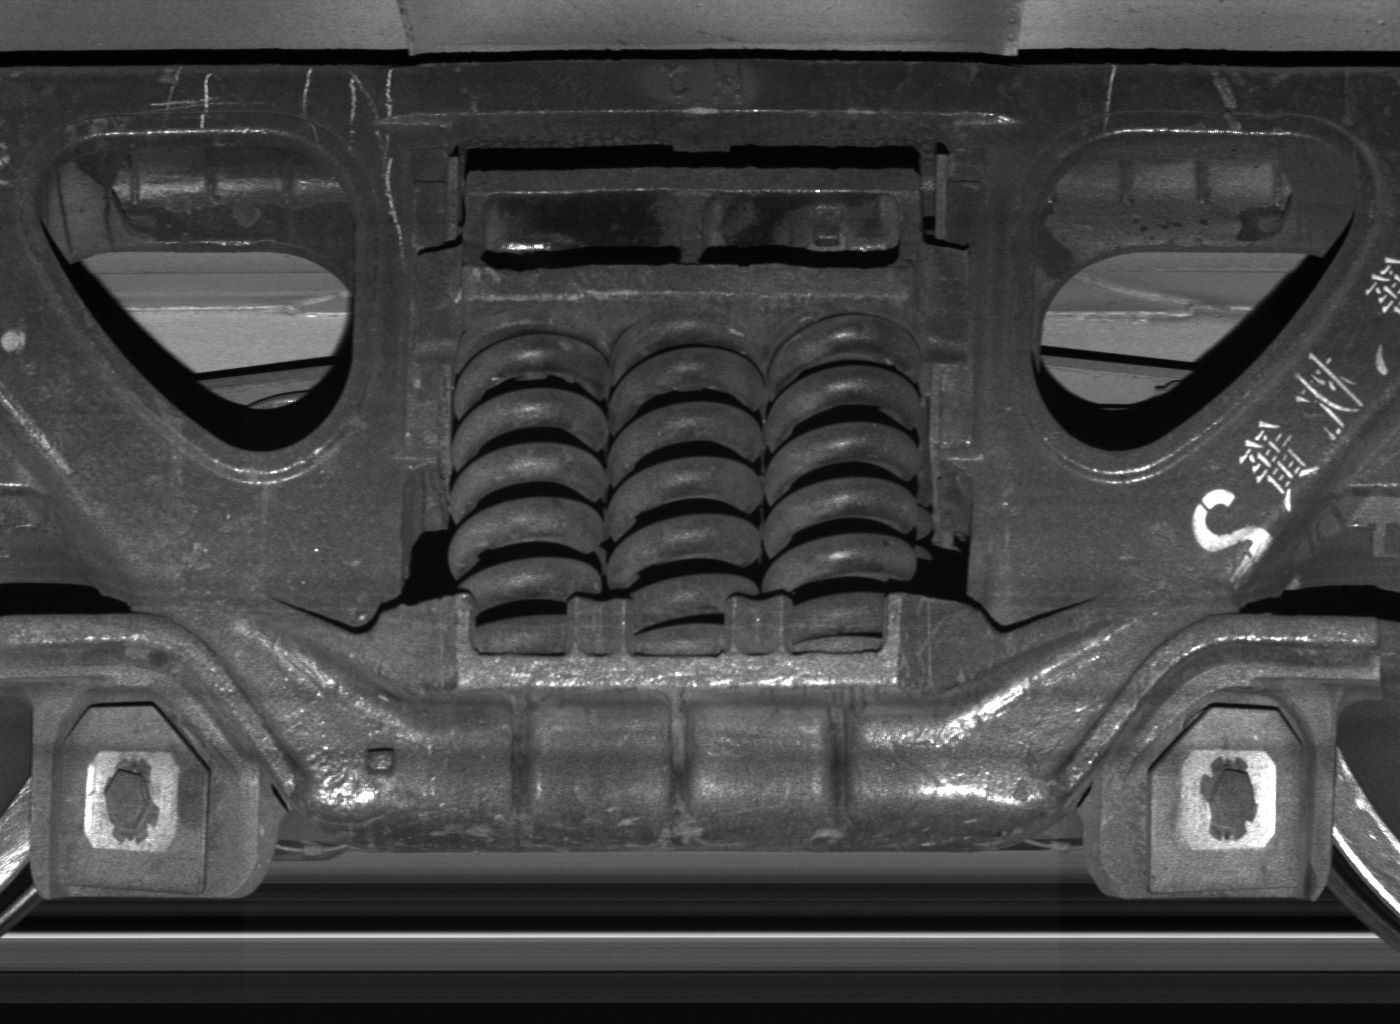locking plate: (1099, 688, 1336, 902), (30, 687, 259, 898)
